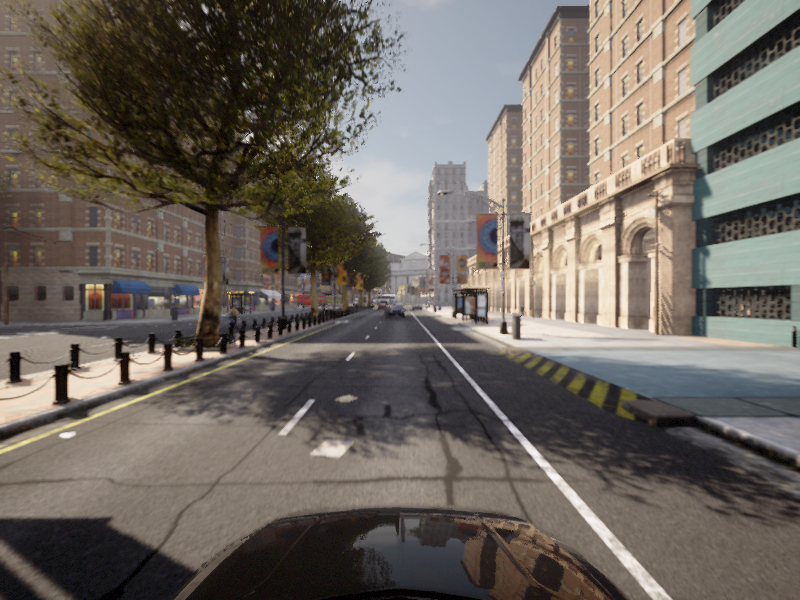vehicle: (194, 304, 220, 325), (221, 305, 243, 329), (383, 305, 405, 318)
